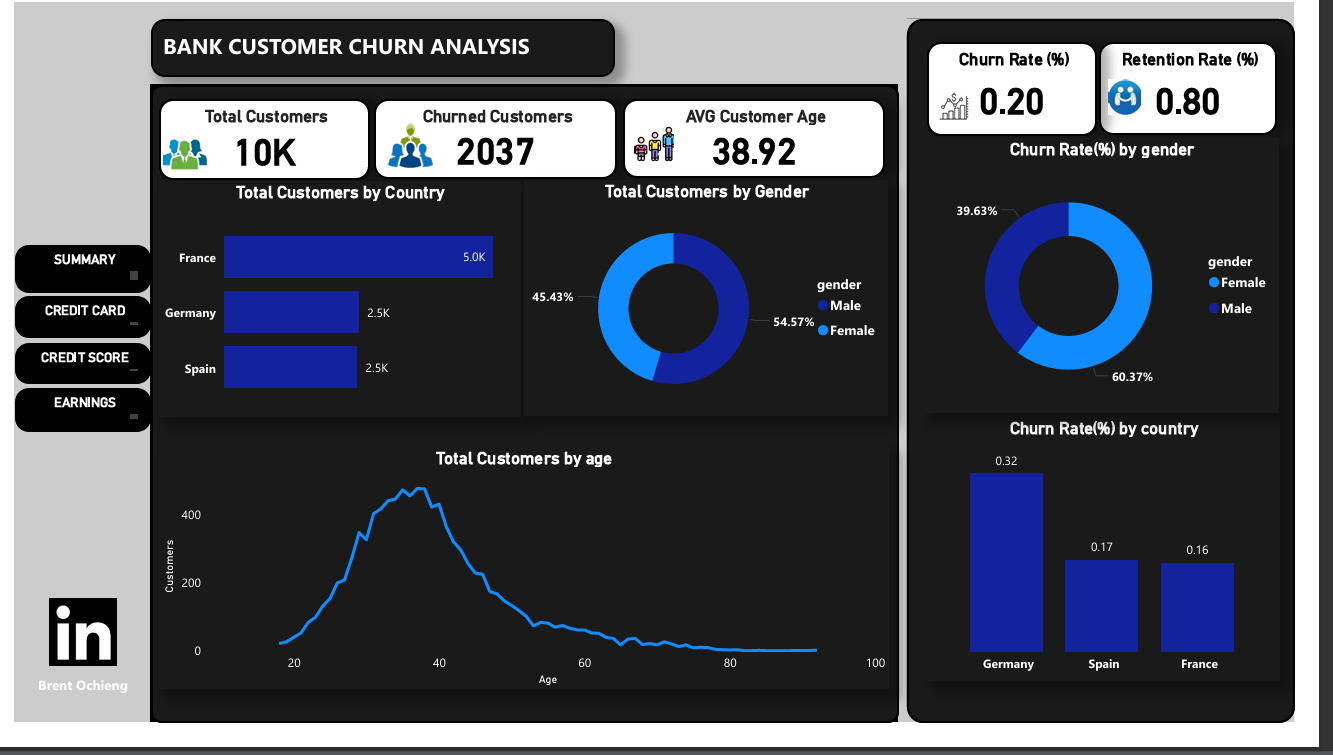

This screenshot's page, from the dashboard's own definition file:
{"tool":"powerbi","page":{"name":"Page 1","canvas":[1280,720],"ordinal":0},"visuals":[{"type":"textbox","box":[135.8,15.8,464,57.7],"z":0},{"type":"card","title":"Retention Rate (%)","fields":{"Values":["Bank Customer Churn Prediction.retention_rate (%)"]},"box":[1084.5,39,177.5,92.7],"z":0,"group":"g1"},{"type":"card","title":"Total Customers","fields":{"Values":["Bank Customer Churn Prediction.total_customers"]},"box":[144,95.7,211,80.8],"z":0,"group":"g2"},{"type":"textbox","title":"SUMMARY","box":[0,242.3,135.6,48],"z":0,"group":"g3"},{"type":"shape","box":[891.5,16,388.9,704],"z":1000},{"type":"card","title":"Churn Rate (%)","fields":{"Values":["Bank Customer Churn Prediction.churn_rate(%)"]},"box":[912,39,169.5,93.7],"z":1000,"group":"g1"},{"type":"card","title":"Churned Customers","fields":{"Values":["Bank Customer Churn Prediction.churned_customers"]},"box":[359,95.7,243,79.8],"z":1000,"group":"g2"},{"type":"textbox","title":"CREDIT CARD","box":[0,292.9,135.6,42.6],"z":1000,"group":"g3"},{"type":"group","id":"g1","title":"Group 1","box":[909,39,357,640.2],"z":2000},{"type":"clusteredBarChart","title":"Total Customers by Country","fields":{"Category":["Bank Customer Churn Prediction.country"],"Y":["Bank Customer Churn Prediction.total_customers"]},"box":[143.6,178.4,363.4,236.2],"z":2000,"group":"g2"},{"type":"textbox","title":"CREDIT SCORE","box":[0,340,135.6,41.8],"z":2000,"group":"g3"},{"type":"lineClusteredColumnComboChart","title":"Churn Rate(%) by country","fields":{"Category":["Bank Customer Churn Prediction.country"],"Y":["Bank Customer Churn Prediction.churn_rate(%)"]},"box":[912,415,354,264.3],"z":2000,"group":"g1"},{"type":"shape","box":[135.6,81.8,747.9,638.2],"z":3000},{"type":"donutChart","title":"Churn Rate(%) by gender","fields":{"Category":["Bank Customer Churn Prediction.gender"],"Y":["Bank Customer Churn Prediction.churn_rate(%)"]},"box":[909,135.7,356,275.2],"z":3000,"group":"g1"},{"type":"textbox","title":"EARNINGS","box":[0,385.4,135.6,44.4],"z":3000,"group":"g3"},{"type":"lineChart","title":"Total Customers by age","fields":{"Category":["Bank Customer Churn Prediction.age"],"Y":["Bank Customer Churn Prediction.total_customers"]},"box":[144,445,731,241.3],"z":3000,"group":"g2"},{"type":"group","id":"g2","title":"Group 2","box":[143.6,95.7,731.4,590.6],"z":4000},{"type":"card","title":"AVG Customer Age","fields":{"Values":["Bank Customer Churn Prediction.avg_age"]},"box":[608,95.7,262,78.8],"z":4000,"group":"g2"},{"type":"image","box":[143.6,123.7,54.8,56.8],"z":5000},{"type":"donutChart","title":"Total Customers by Gender","fields":{"Category":["Bank Customer Churn Prediction.gender"],"Y":["Bank Customer Churn Prediction.total_customers"]},"box":[509.1,177.4,364.5,236.2],"z":5000,"group":"g2"},{"type":"image","box":[368,112.7,54.8,59.8],"z":6000},{"type":"image","box":[917.5,81.8,43.9,41.9],"z":7000},{"type":"image","box":[615.3,112.7,49.9,55.8],"z":8000},{"type":"image","box":[1089,64.8,42.9,58.8],"z":9000},{"type":"group","id":"g3","title":"Group 3","box":[0,242.3,135.6,187.5],"z":10000},{"type":"textbox","box":[0,668.1,135.6,51.9],"z":11000},{"type":"image","box":[0,591.4,135.6,76.8],"z":11001}]}

Visuals, with their boxes in screenshot pixels (x1, y1, x2, y2), scaled from the page's 1280x720 canvas onto the 1333x755 screenshot:
textbox: region(141, 17, 625, 77)
"Retention Rate (%)" card: region(1129, 41, 1314, 138)
"Total Customers" card: region(150, 100, 370, 185)
"SUMMARY" textbox: region(0, 254, 141, 304)
shape: region(928, 17, 1332, 754)
"Churn Rate (%)" card: region(950, 41, 1126, 139)
"Churned Customers" card: region(374, 100, 627, 184)
"CREDIT CARD" textbox: region(0, 307, 141, 352)
"Group 1" group: region(947, 41, 1318, 712)
"Total Customers by Country" clusteredBarChart: region(150, 187, 528, 435)
"CREDIT SCORE" textbox: region(0, 357, 141, 400)
"Churn Rate(%) by country" lineClusteredColumnComboChart: region(950, 435, 1318, 712)
shape: region(141, 86, 920, 754)
"Churn Rate(%) by gender" donutChart: region(947, 142, 1317, 431)
"EARNINGS" textbox: region(0, 404, 141, 451)
"Total Customers by age" lineChart: region(150, 467, 911, 720)
"Group 2" group: region(150, 100, 911, 720)
"AVG Customer Age" card: region(633, 100, 906, 183)
image: region(150, 130, 207, 189)
"Total Customers by Gender" donutChart: region(530, 186, 910, 434)
image: region(383, 118, 440, 181)
image: region(955, 86, 1001, 130)
image: region(641, 118, 693, 177)
image: region(1134, 68, 1179, 130)
"Group 3" group: region(0, 254, 141, 451)
textbox: region(0, 701, 141, 754)
image: region(0, 620, 141, 701)
